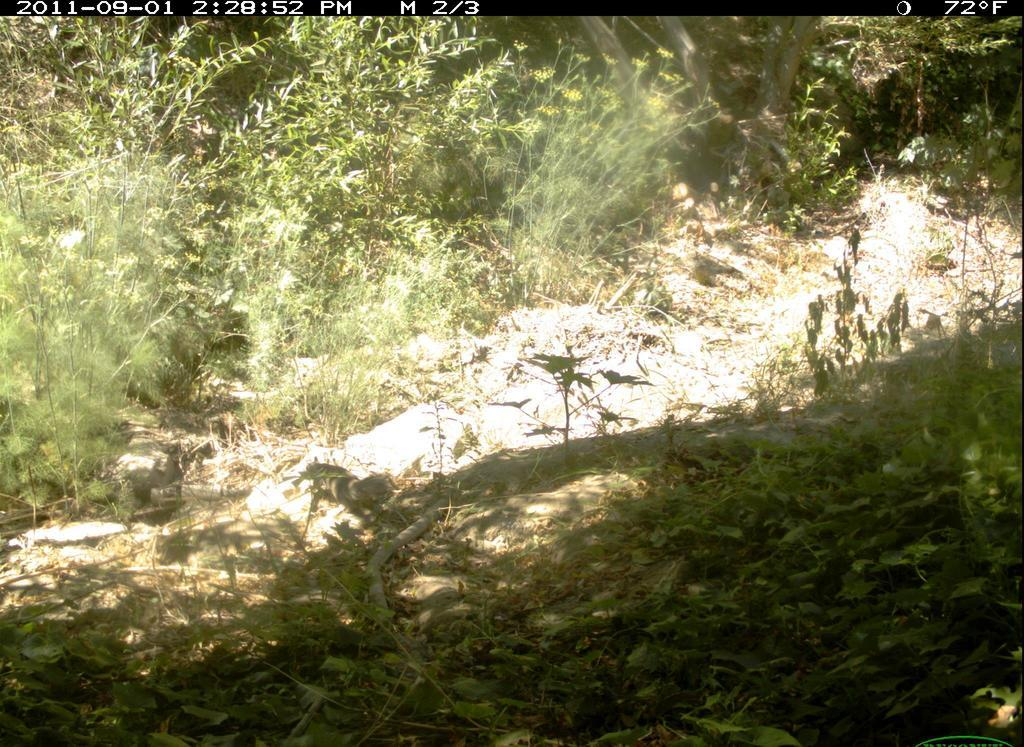squirrel: (290, 454, 409, 518)
